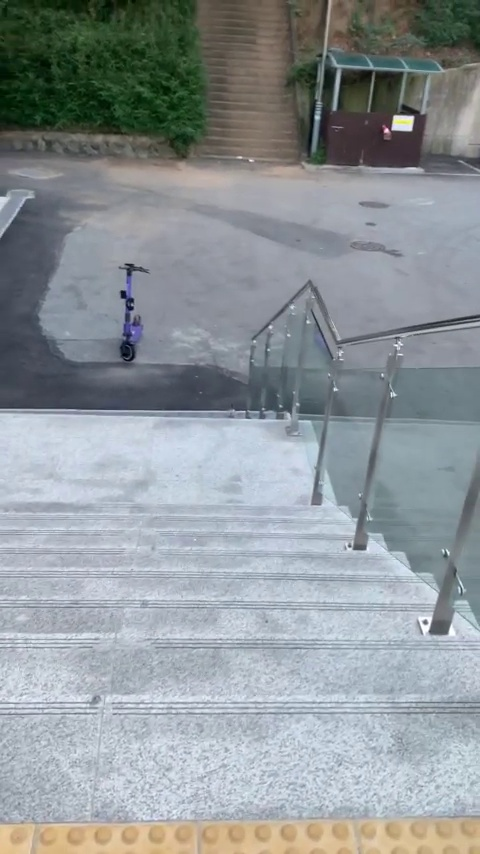beam: (110, 256, 150, 372)
